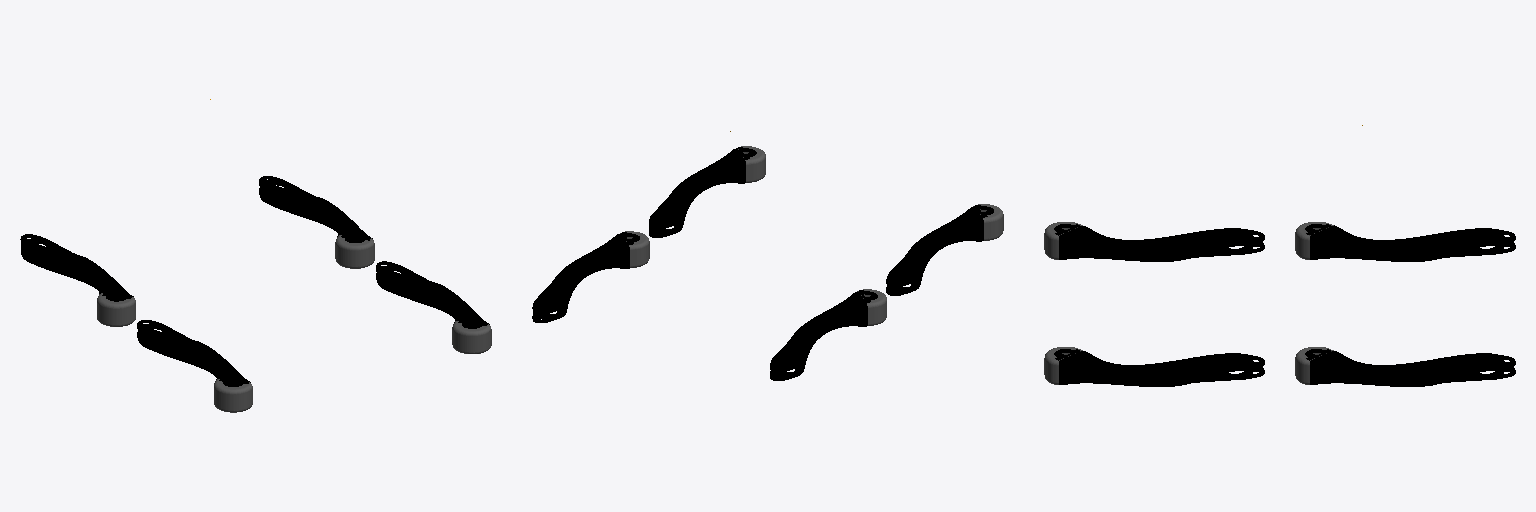
URDF robot description (lite3):
<?xml version="1.0" ?>
<robot name="lite3">
  <link name="base">
    <visual>
      <origin rpy="0 0 0" xyz="0 0 0"/>
      <geometry>
        <box size="0.001 0.001 0.001"/>
      </geometry>
    </visual>
  </link>
  <joint name="floating_base" type="fixed">
    <origin rpy="0 0 0" xyz="0 0 0"/>
    <parent link="base"/>
    <child link="trunk"/>
  </joint>
  <link name="trunk">
    <visual>
      <origin rpy="0 0 1.5708" xyz="-0.05 -0.5 0.08"/>
      <geometry>
        <mesh filename="../meshes/trunk.dae" scale="1 1 1"/>
      </geometry>
    </visual>
    <collision>
      <geometry>
        <box size="0.234 0.184 0.08"/>
      </geometry>
    </collision>
    <inertial>
      <origin xyz="0.004098 -0.000663 -0.002069"/>
      <mass value="4.130"/>
      <inertia ixx="0.016982120" ixy="2.1294E-05" ixz="6.0763E-05" iyy="0.030466501" iyz="1.7968E-05" izz="0.042609956"/>
    </inertial>
  </link>
  <joint name="imu_joint" type="fixed">
    <parent link="trunk"/>
    <child link="imu_link"/>
    <origin rpy="0 0 0" xyz="0 0 0"/>
  </joint>
  <link name="imu_link">
    <inertial>
      <mass value="0.001"/>
      <origin rpy="0 0 0" xyz="0 0 0"/>
      <inertia ixx="0.0001" ixy="0" ixz="0" iyy="0.0001" iyz="0" izz="0.0001"/>
    </inertial>
    <visual>
      <origin rpy="0 0 0" xyz="0 0 0"/>
      <geometry>
        <box size="0.001 0.001 0.001"/>
      </geometry>
    </visual>
    <collision>
      <origin rpy="0 0 0" xyz="0 0 0"/>
      <geometry>
        <box size=".001 .001 .001"/>
      </geometry>
    </collision>
  </link>
  <joint name="FR_hip_joint" type="revolute">
    <origin xyz="0.1745 -0.062 0"/>
    <parent link="trunk"/>
    <child link="FR_hip"/>
    <axis xyz="1 0 0"/>
    <limit effort="40" lower="-6.28" upper="6.28" velocity="30"/>
  </joint>
  <link name="FR_hip">
    <inertial>
      <origin xyz="-0.0047 0.0091 -0.0018"/>
      <mass value="0.428"/>
      <inertia ixx="0.00014538" ixy="-8.1551E-07" ixz="-1.2639E-05" iyy="0.00024024" iyz="-1.3441E-06" izz="0.00013038"/>
    </inertial>
    <visual>
      <origin rpy="0 0 1.5708" xyz="-0.231 -0.44 0.09"/>
      <geometry>
        <mesh filename="../meshes/FR_hip.dae" scale="1 1 1"/>
      </geometry>
    </visual>
    <collision>
      <origin rpy="1.57079632679 0 0" xyz="0 0 0"/>
      <geometry>
        <cylinder length="0.04" radius="0.046"/>
      </geometry>
    </collision>
  </link>
  <joint name="FR_hip_fixed" type="fixed">
    <origin rpy="0 0 0" xyz="0 -0.08 0"/>
    <parent link="FR_hip"/>
    <child link="FR_thigh_shoulder"/>
  </joint>
  <!-- this link is only for collision -->
  <link name="FR_thigh_shoulder">
    <collision>
      <origin rpy="1.57079632679 0 0" xyz="0 0 0"/>
      <geometry>
        <cylinder length="0.032" radius="0.041"/>
      </geometry>
    </collision>
  </link>
  <joint name="FR_thigh_joint" type="revolute">
    <origin xyz="0 -0.0985 0"/>
    <parent link="FR_hip"/>
    <child link="FR_thigh"/>
    <axis xyz="0 1 0"/>
    <limit effort="40" lower="-6.28" upper="6.28" velocity="30"/>
  </joint>
  <link name="FR_thigh">
    <inertial>
      <origin xyz="-0.00523 0.0216 -0.0273"/>
      <mass value="0.61"/>
      <inertia ixx="0.001" ixy="2.5E-06" ixz="-1.12E-04" iyy="0.00116" iyz="-3.75E-07" izz="2.68E-04"/>
    </inertial>
    <visual>
      <origin rpy="-3.5708 0 1.5708" xyz="0.27 -0.335 0.02"/>
      <geometry>
        <mesh filename="../meshes/R_thigh.dae" scale="1 1 1"/>
      </geometry>
    </visual>
    <collision>
      <origin xyz="0 0.01 -0.11"/>
      <geometry>
        <box size="0.035 0.02 0.20"/>
      </geometry>
    </collision>
  </link>
  <joint name="FR_calf_joint" type="revolute">
    <origin xyz="0 0 -0.20"/>
    <parent link="FR_thigh"/>
    <child link="FR_calf"/>
    <axis xyz="0 1 0"/>
    <limit effort="65" lower="-6.28" upper="6.28" velocity="20"/>
  </joint>
  <link name="FR_calf">
    <inertial>
      <origin xyz="0.00585 -8.732E-07 -0.12"/>
      <mass value="0.115"/>
      <inertia ixx="6.68E-04" ixy="-1.24E-08" ixz="6.91E-06" iyy="6.86E-04" iyz="5.65E-09" izz="3.155E-05"/>
    </inertial>
    <visual>
      <origin rpy="-1.57079632679 0 0" xyz="0.005 0.01 -0.03"/>
      <geometry>
        <mesh filename="../meshes/calf.dae" scale="1 1 1"/>
      </geometry>
    </visual>
    <collision>
      <origin xyz="0 0.01 -0.11"/>
      <geometry>
        <box size="0.02 0.02 0.22"/>
      </geometry>
    </collision>
  </link>
  <joint name="FR_foot_fixed" type="fixed" dont_collapse="true">
    <origin xyz="0 0 -0.20"/>
    <parent link="FR_calf"/>
    <child link="FR_foot"/>
  </joint>
  <link name="FR_foot">
    <inertial>
      <mass value="0.06"/>
      <inertia ixx="1E-12" ixy="0" ixz="0" iyy="1E-12" iyz="0" izz="1E-12"/>
    </inertial>
    <collision>
      <geometry>
        <sphere radius="0.04"/>
      </geometry>
    </collision>
  </link>
  <joint name="FL_hip_joint" type="revolute">
    <origin xyz="0.1745 0.062 0"/>
    <parent link="trunk"/>
    <child link="FL_hip"/>
    <axis xyz="1 0 0"/>
    <limit effort="40" lower="-6.28" upper="6.28" velocity="30"/>
  </joint>
  <link name="FL_hip">
    <inertial>
      <origin xyz="-0.0047 -0.0091 -0.0018"/>
      <mass value="0.428"/>
      <inertia ixx="0.00014538" ixy="8.1579E-07" ixz="-1.264E-05" iyy="0.00024024" iyz="1.3443E-06" izz="0.00013038"/>
    </inertial>
    <visual>
      <origin rpy="0 0 1.5708" xyz="-0.231 -0.56 0.09"/>
      <geometry>
        <mesh filename="../meshes/FL_hip.dae" scale="1 1 1"/>
      </geometry>
    </visual>
    <collision>
      <origin rpy="1.57079632679 0 0" xyz="0 0 0"/>
      <geometry>
        <cylinder length="0.04" radius="0.046"/>
      </geometry>
    </collision>
  </link>
  <joint name="FL_hip_fixed" type="fixed">
    <origin rpy="0 0 0" xyz="0 0.08 0"/>
    <parent link="FL_hip"/>
    <child link="FL_thigh_shoulder"/>
  </joint>
  <!-- this link is only for collision -->
  <link name="FL_thigh_shoulder">
    <collision>
      <origin rpy="1.57079632679 0 0" xyz="0 0 0"/>
      <geometry>
        <cylinder length="0.032" radius="0.041"/>
      </geometry>
    </collision>
  </link>
  <joint name="FL_thigh_joint" type="revolute">
    <origin xyz="0 0.0985 0"/>
    <parent link="FL_hip"/>
    <child link="FL_thigh"/>
    <axis xyz="0 1 0"/>
    <limit effort="40" lower="-6.28" upper="6.28" velocity="30"/>
  </joint>
  <link name="FL_thigh">
    <inertial>
      <origin xyz="-0.00523 -0.0216 -0.0273"/>
      <mass value="0.61"/>
      <inertia ixx="0.001" ixy="-2.5E-06" ixz="-1.12E-04" iyy="0.00116" iyz="3.75E-07" izz="2.68E-04"/>
    </inertial>
    <visual>
      <origin rpy="-3.5708 0 1.5708" xyz="0.27 -0.67 0.02"/>
      <geometry>
        <mesh filename="../meshes/L_thigh.dae" scale="1 1 1"/>
      </geometry>
    </visual>
    <collision>
      <origin xyz="0 -0.01 -0.11"/>
      <geometry>
        <box size="0.035 0.02 0.20"/>
      </geometry>
    </collision>
  </link>
  <joint name="FL_calf_joint" type="revolute">
    <origin xyz="0 0 -0.20"/>
    <parent link="FL_thigh"/>
    <child link="FL_calf"/>
    <axis xyz="0 1 0"/>
    <limit effort="65" lower="-6.28" upper="6.28" velocity="20"/>
  </joint>
  <link name="FL_calf">
    <inertial>
      <origin xyz="0.00585 -8.732E-07 -0.12"/>
      <mass value="0.115"/>
      <inertia ixx="6.68E-04" ixy="-1.24E-08" ixz="6.91E-06" iyy="6.86E-04" iyz="5.65E-09" izz="3.155E-05"/>
    </inertial>
    <visual>
      <origin rpy="-1.57079632679 0 0" xyz="0.005 -0.015 -0.03"/>
      <geometry>
        <mesh filename="../meshes/calf.dae" scale="1 1 1"/>
      </geometry>
    </visual>
    <collision>
      <origin xyz="0 -0.01 -0.11"/>
      <geometry>
        <box size="0.02 0.02 0.22"/>
      </geometry>
    </collision>
  </link>
  <joint name="FL_foot_fixed" type="fixed" dont_collapse="true">
    <origin xyz="0 0 -0.20"/>
    <parent link="FL_calf"/>
    <child link="FL_foot"/>
  </joint>
  <link name="FL_foot">
    <inertial>
      <mass value="0.06"/>
      <inertia ixx="1E-12" ixy="0" ixz="0" iyy="1E-12" iyz="0" izz="1E-12"/>
    </inertial>
    <collision>
      <geometry>
        <sphere radius="0.04"/>
      </geometry>
    </collision>
  </link>
  <joint name="RR_hip_joint" type="revolute">
    <origin xyz="-0.1745 -0.062 0"/>
    <parent link="trunk"/>
    <child link="RR_hip"/>
    <axis xyz="1 0 0"/>
    <limit effort="40" lower="-6.28" upper="6.28" velocity="30"/>
  </joint>
  <link name="RR_hip">
    <inertial>
      <origin xyz="0.0047 0.0091 -0.0018"/>
      <mass value="0.428"/>
      <inertia ixx="0.00014538" ixy="8.1545E-07" ixz="1.2639E-05" iyy="0.00024024" iyz="-1.344E-06" izz="0.00013038"/>
    </inertial>
    <visual>
      <origin rpy="0 0 1.5708" xyz="0.12 -0.44 0.09"/>
      <geometry>
        <mesh filename="../meshes/RR_hip.dae" scale="1 1 1"/>
      </geometry>
    </visual>
    <collision>
      <origin rpy="1.57079632679 0 0" xyz="0 0 0"/>
      <geometry>
        <cylinder length="0.04" radius="0.046"/>
      </geometry>
    </collision>
  </link>
  <joint name="RR_hip_fixed" type="fixed">
    <origin rpy="0 0 0" xyz="0 -0.08 0"/>
    <parent link="RR_hip"/>
    <child link="RR_thigh_shoulder"/>
  </joint>
  <!-- this link is only for collision -->
  <link name="RR_thigh_shoulder">
    <collision>
      <origin rpy="1.57079632679 0 0" xyz="0 0 0"/>
      <geometry>
        <cylinder length="0.032" radius="0.041"/>
      </geometry>
    </collision>
  </link>
  <joint name="RR_thigh_joint" type="revolute">
    <origin xyz="0 -0.0985 0"/>
    <parent link="RR_hip"/>
    <child link="RR_thigh"/>
    <axis xyz="0 1 0"/>
    <limit effort="40" lower="-6.28" upper="6.28" velocity="30"/>
  </joint>
  <link name="RR_thigh">
    <inertial>
      <origin xyz="-0.00523 0.0216 -0.0273"/>
      <mass value="0.61"/>
      <inertia ixx="0.001" ixy="2.5E-06" ixz="-1.12E-04" iyy="0.00116" iyz="-3.75E-07" izz="2.68E-04"/>
    </inertial>
    <visual>
      <origin rpy="-3.5708 0 1.5708" xyz="0.27 -0.335 0.02"/>
      <geometry>
        <mesh filename="../meshes/R_thigh.dae" scale="1 1 1"/>
      </geometry>
    </visual>
    <collision>
      <origin xyz="0 0.01 -0.11"/>
      <geometry>
        <box size="0.035 0.02 0.20"/>
      </geometry>
    </collision>
  </link>
  <joint name="RR_calf_joint" type="revolute">
    <origin xyz="0 0 -0.20"/>
    <parent link="RR_thigh"/>
    <child link="RR_calf"/>
    <axis xyz="0 1 0"/>
    <limit effort="65" lower="-6.28" upper="6.28" velocity="20"/>
  </joint>
  <link name="RR_calf">
    <inertial>
      <origin xyz="0.00585 -8.732E-07 -0.12"/>
      <mass value="0.115"/>
      <inertia ixx="6.68E-04" ixy="-1.24E-08" ixz="6.91E-06" iyy="6.86E-04" iyz="5.65E-09" izz="3.155E-05"/>
    </inertial>
    <visual>
      <origin rpy="-1.57079632679 0 0" xyz="0.005 0.01 -0.03"/>
      <geometry>
        <mesh filename="../meshes/calf.dae" scale="1 1 1"/>
      </geometry>
    </visual>
    <collision>
      <origin xyz="0 0.01 -0.11"/>
      <geometry>
        <box size="0.02 0.02 0.22"/>
      </geometry>
    </collision>
  </link>
  <joint name="RR_foot_fixed" type="fixed" dont_collapse="true">
    <origin xyz="0 0 -0.20"/>
    <parent link="RR_calf"/>
    <child link="RR_foot"/>
  </joint>
  <link name="RR_foot">
    <inertial>
      <mass value="0.06"/>
      <inertia ixx="1E-12" ixy="0" ixz="0" iyy="1E-12" iyz="0" izz="1E-12"/>
    </inertial>
    <collision>
      <geometry>
        <sphere radius="0.04"/>
      </geometry>
    </collision>
  </link>
  <joint name="RL_hip_joint" type="revolute">
    <origin xyz="-0.1745 0.062 0"/>
    <parent link="trunk"/>
    <child link="RL_hip"/>
    <axis xyz="1 0 0"/>
    <limit effort="40" lower="-6.28" upper="6.28" velocity="30"/>
  </joint>
  <link name="RL_hip">
    <inertial>
      <origin xyz="0.0047 -0.0091 -0.0018"/>
      <mass value="0.428"/>
      <inertia ixx="0.00014538" ixy="-8.1585E-07" ixz="1.2639E-05" iyy="0.00024024" iyz="1.3444E-06" izz="0.00013038"/>
    </inertial>
    <visual>
      <origin rpy="0 0 1.5708" xyz="0.12 -0.56 0.09"/>
      <geometry>
        <mesh filename="../meshes/RL_hip.dae" scale="1 1 1"/>
      </geometry>
    </visual>
    <collision>
      <origin rpy="1.57079632679 0 0" xyz="0 0 0"/>
      <geometry>
        <cylinder length="0.04" radius="0.046"/>
      </geometry>
    </collision>
  </link>
  <joint name="RL_hip_fixed" type="fixed">
    <origin rpy="0 0 0" xyz="0 0.08 0"/>
    <parent link="RL_hip"/>
    <child link="RL_thigh_shoulder"/>
  </joint>
  <!-- this link is only for collision -->
  <link name="RL_thigh_shoulder">
    <collision>
      <origin rpy="1.57079632679 0 0" xyz="0 0 0"/>
      <geometry>
        <cylinder length="0.032" radius="0.041"/>
      </geometry>
    </collision>
  </link>
  <joint name="RL_thigh_joint" type="revolute">
    <origin xyz="0 0.0985 0"/>
    <parent link="RL_hip"/>
    <child link="RL_thigh"/>
    <axis xyz="0 1 0"/>
    <limit effort="40" lower="-6.28" upper="6.28" velocity="30"/>
  </joint>
  <link name="RL_thigh">
    <inertial>
      <origin xyz="-0.00523 -0.0216 -0.0273"/>
      <mass value="0.61"/>
      <inertia ixx="0.001" ixy="-2.5E-06" ixz="-1.12E-04" iyy="0.00116" iyz="3.75E-07" izz="2.68E-04"/>
    </inertial>
    <visual>
      <origin rpy="-3.5708 0 1.5708" xyz="0.27 -0.67 0.02"/>
      <geometry>
        <mesh filename="../meshes/L_thigh.dae" scale="1 1 1"/>
      </geometry>
    </visual>
    <collision>
      <origin xyz="0 -0.01 -0.11"/>
      <geometry>
        <box size="0.035 0.02 0.20"/>
      </geometry>
    </collision>
  </link>
  <joint name="RL_calf_joint" type="revolute">
    <origin xyz="0 0 -0.20"/>
    <parent link="RL_thigh"/>
    <child link="RL_calf"/>
    <axis xyz="0 1 0"/>
    <limit effort="65" lower="-6.28" upper="6.28" velocity="20"/>
  </joint>
  <link name="RL_calf">
    <inertial>
      <origin xyz="0.00585 -8.732E-07 -0.12"/>
      <mass value="0.115"/>
      <inertia ixx="6.68E-04" ixy="-1.24E-08" ixz="6.91E-06" iyy="6.86E-04" iyz="5.65E-09" izz="3.155E-05"/>
    </inertial>
    <visual>
      <origin rpy="-1.57079632679 0 0" xyz="0.005 -0.015 -0.03"/>
      <geometry>
        <mesh filename="../meshes/calf.dae" scale="1 1 1"/>
      </geometry>
    </visual>
    <collision>
      <origin xyz="0 -0.01 -0.11"/>
      <geometry>
        <box size="0.02 0.02 0.22"/>
      </geometry>
    </collision>
  </link>
  <joint name="RL_foot_fixed" type="fixed" dont_collapse="true">
    <origin xyz="0 0 -0.20"/>
    <parent link="RL_calf"/>
    <child link="RL_foot"/>
  </joint>
  <link name="RL_foot">
    <inertial>
      <mass value="0.06"/>
      <inertia ixx="1E-12" ixy="0" ixz="0" iyy="1E-12" iyz="0" izz="1E-12"/>
    </inertial>
    <collision>
      <geometry>
        <sphere radius="0.04"/>
      </geometry>
    </collision>
  </link>

</robot>

--- Render facts (derived) ---
Views: 3 orthographic renders of the robot side by side, from view 1: azimuth 30°, elevation 25°; view 2: azimuth 150°, elevation 25°; view 3: azimuth 270°, elevation 25°.
Robot: lite3 — 23 links, 22 joints (12 revolute, 10 fixed); root link base; default pose: all joints at 0.
Links seen in each view (by area): view 1: FL_calf, FR_calf, RR_calf, RL_calf; view 2: FL_calf, RR_calf, FR_calf, RL_calf; view 3: FR_calf, RL_calf, RR_calf, FL_calf.
Boxes of the visible links, x1,y1,x2,y2 form: FL_calf: (259,176,374,268); FR_calf: (376,261,491,353); RR_calf: (137,320,252,412); RL_calf: (20,234,135,326); FL_calf: (532,231,649,322); RR_calf: (886,204,1003,295); FR_calf: (649,146,765,237); RL_calf: (770,289,886,380); FR_calf: (1044,347,1264,386); RL_calf: (1295,222,1515,261); RR_calf: (1044,222,1264,261); FL_calf: (1295,347,1515,386).
Size in the robot's own frame: 0.4068 by 0.5556 by 0.2475 metres.
4 mesh visuals loaded from 8 distinct referenced files (1 Collada DAE); not drawn: 9 (reference not matched to a file when rendering).